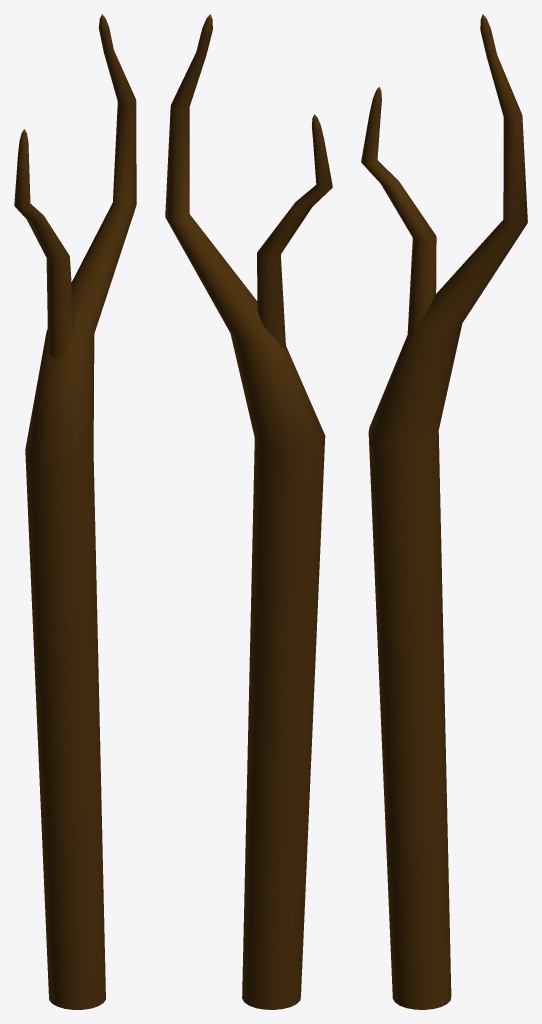
The model's file is shuzhi1.fbx.
The picture shows the model from 3 angles, left to right: view 1: azimuth 30°, elevation 25°; view 2: azimuth 150°, elevation 25°; view 3: azimuth 330°, elevation 25°; orthographic projection. The views are drawn at different scales.
Visible parts, largest first — view 1: polySurface6; view 2: polySurface6; view 3: polySurface6.
Part boxes in pixels (x1=…): polySurface6: x1=14, y1=14, x2=136, y2=1009; polySurface6: x1=165, y1=14, x2=332, y2=1009; polySurface6: x1=361, y1=14, x2=527, y2=1009.
Bounding box in the file's own units: 4.29 × 28.12 × 2.41.
